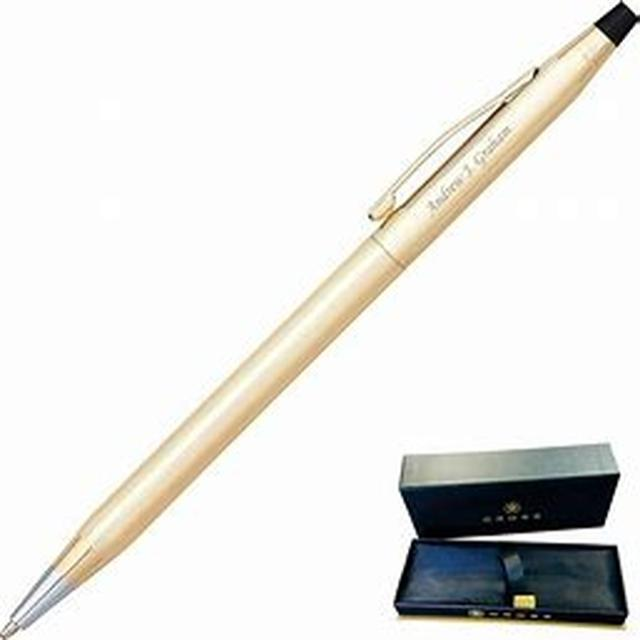box: (353, 414, 640, 638)
pen: (6, 10, 630, 631)
